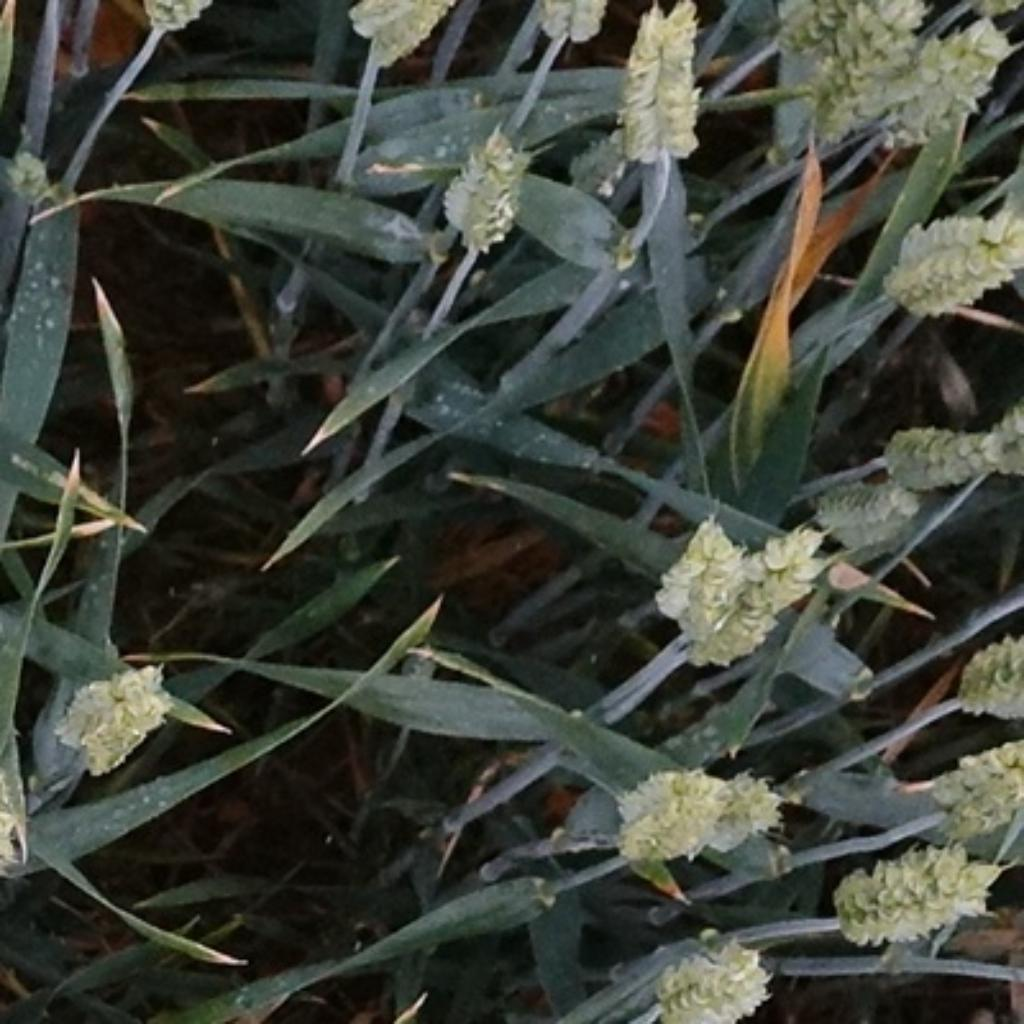0-0: (670, 517, 824, 685), (824, 826, 1009, 956), (870, 186, 1023, 328), (875, 12, 1018, 161), (803, 0, 935, 143), (606, 2, 711, 161), (637, 921, 772, 1024), (435, 127, 538, 255), (913, 721, 1024, 834), (606, 768, 727, 867), (70, 662, 172, 778), (861, 418, 1002, 499), (657, 512, 742, 629), (340, 2, 464, 81), (803, 468, 926, 545), (944, 614, 1024, 711), (700, 765, 778, 855), (557, 120, 640, 202), (753, 0, 851, 64), (0, 140, 65, 215), (978, 387, 1023, 490), (537, 2, 606, 56), (135, 2, 210, 48)
